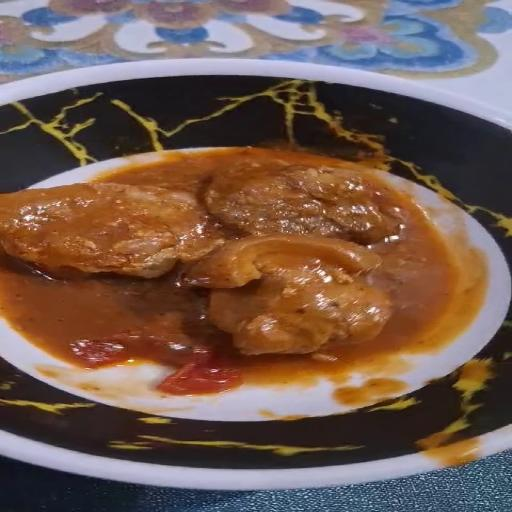pork caldereta: (0, 149, 484, 403)
